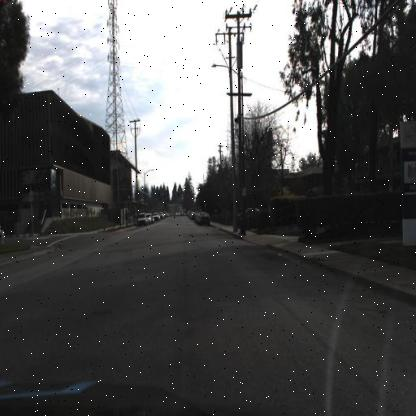car: (136, 211, 148, 228), (198, 212, 210, 228)
